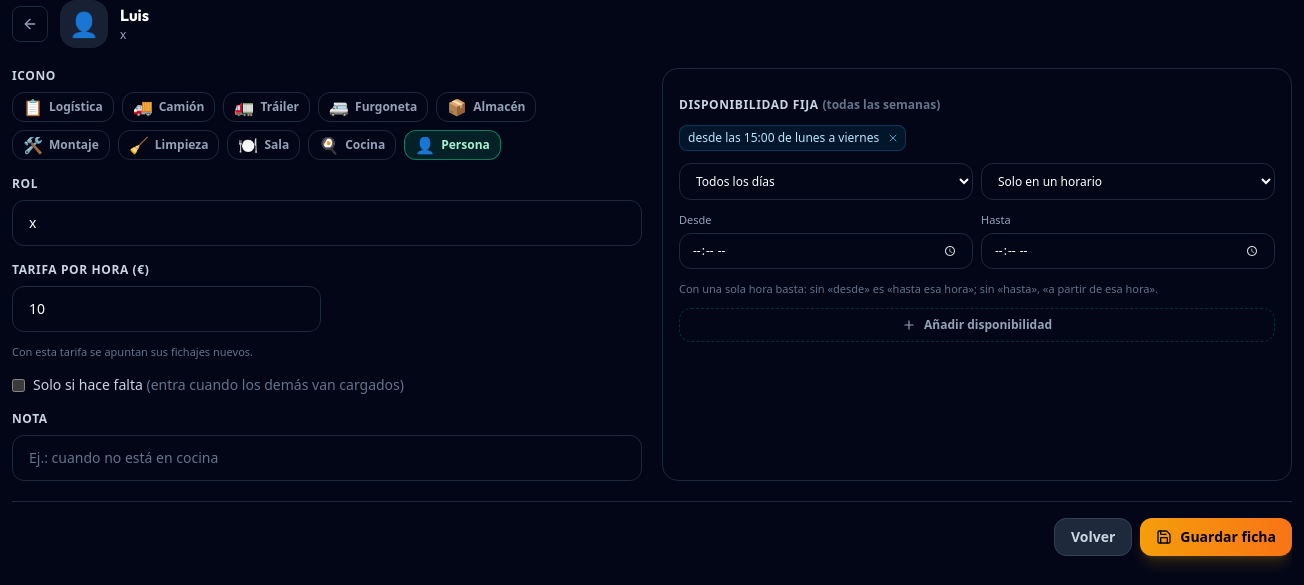
Test case: FichaTrabajador — grupos de días › quitar la etiqueta quita todo el grupo
This screenshot has width=1304, height=585.
Click the button named "Quitar: desde las 15:00 de lunes a viernes": (893, 138) [883,128,903,148]
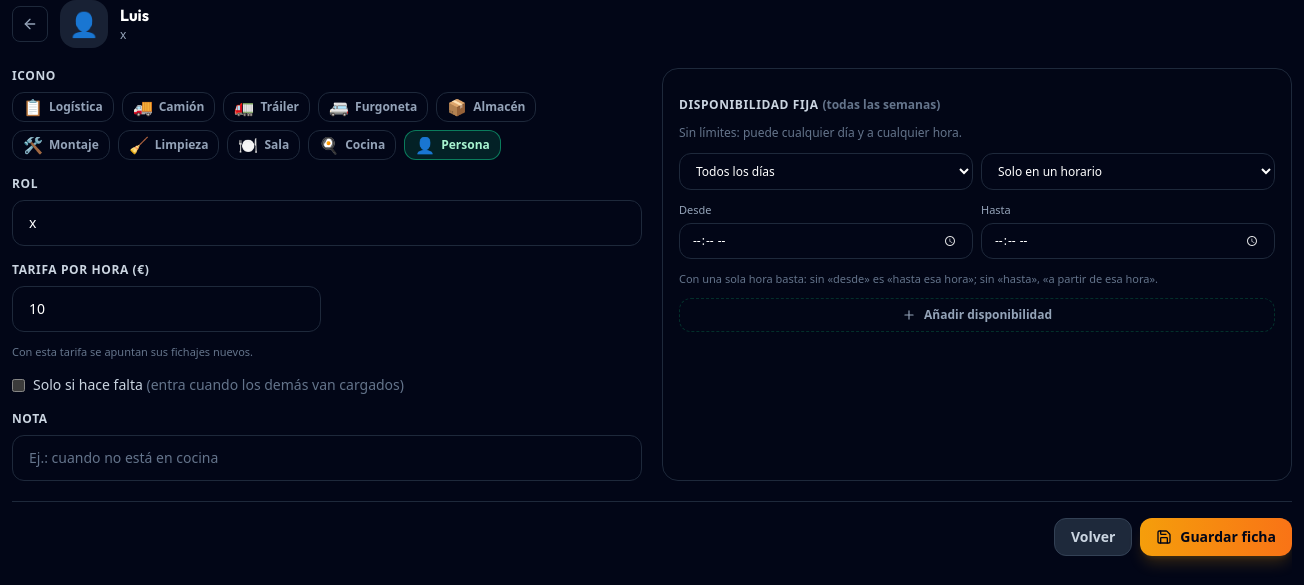
Expected: the list item "desde las 15:00" is gone
